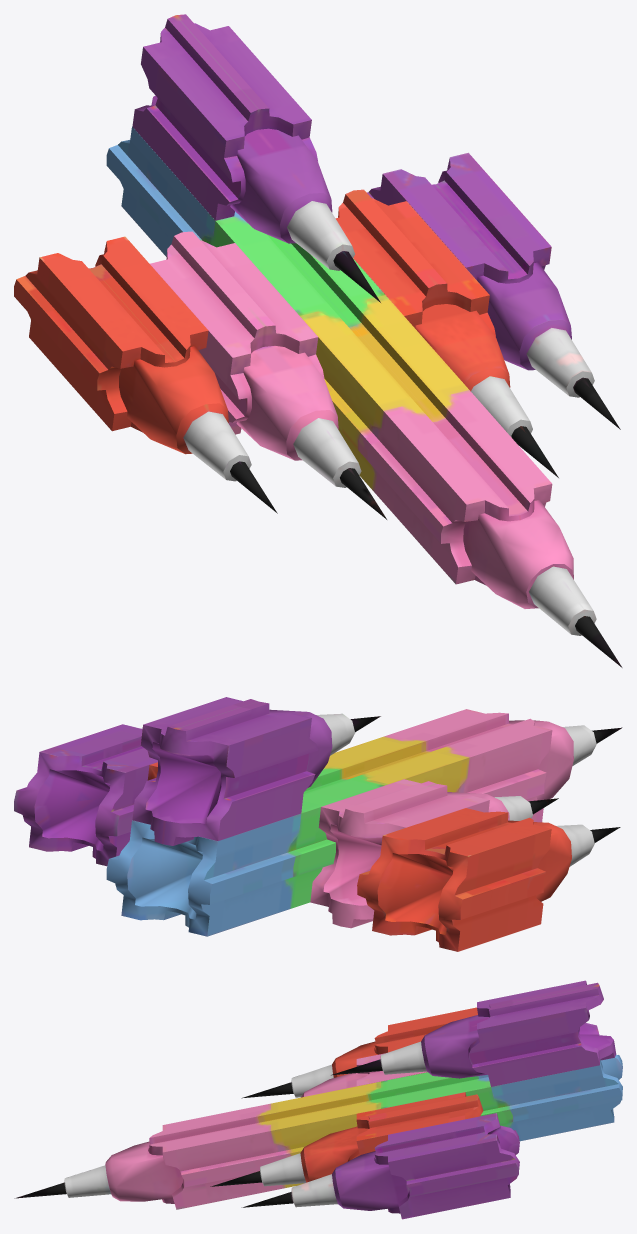
Rendered from ref_gtplanepen.glb.
3 renders of one model, top to bottom at view 1: azimuth 30°, elevation 25°; view 2: azimuth 150°, elevation 25°; view 3: azimuth 270°, elevation 25°, orthographic. The views are drawn at different scales.
Visible parts, largest first — view 1: ref_gtplanepen_part0; view 2: ref_gtplanepen_part0; view 3: ref_gtplanepen_part0.
Part boxes in pixels (x1,y1,x2,y2): ref_gtplanepen_part0: (14,14,622,667); ref_gtplanepen_part0: (14,697,622,951); ref_gtplanepen_part0: (14,980,622,1219).
Bounding box in the file's own units: 0.554 × 0.3869 × 1.
Materials: 1 (1 with a texture image).
